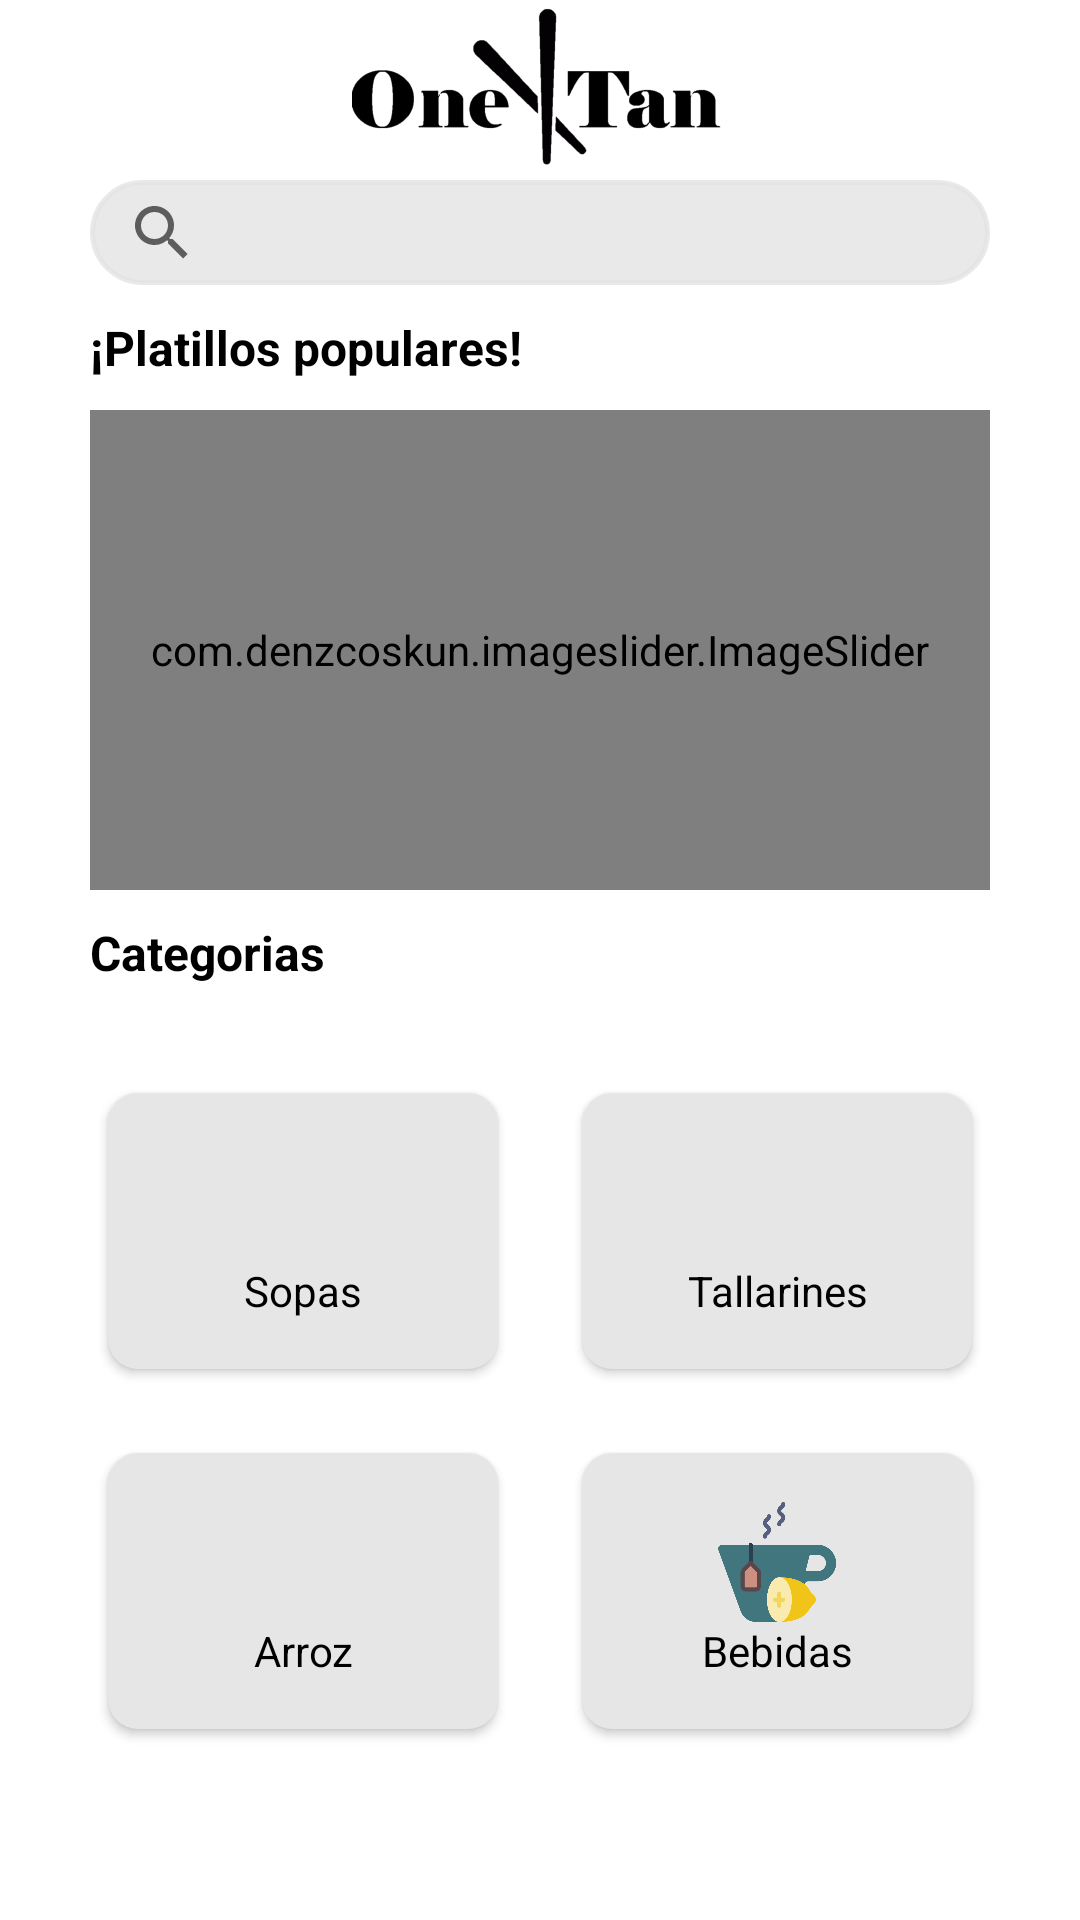

Icon click points for this 1080 x 1920 phone screenshot, format (x=x, y=y):
infusiones: (x=777, y=1562)
